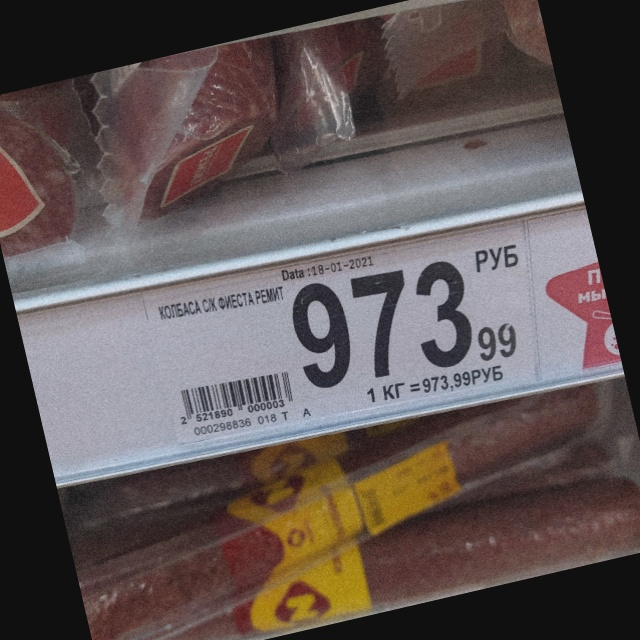barcode: (178, 364, 294, 427)
name: (157, 281, 288, 322)
price: (290, 257, 518, 391)
price_tag: (153, 222, 530, 449)
